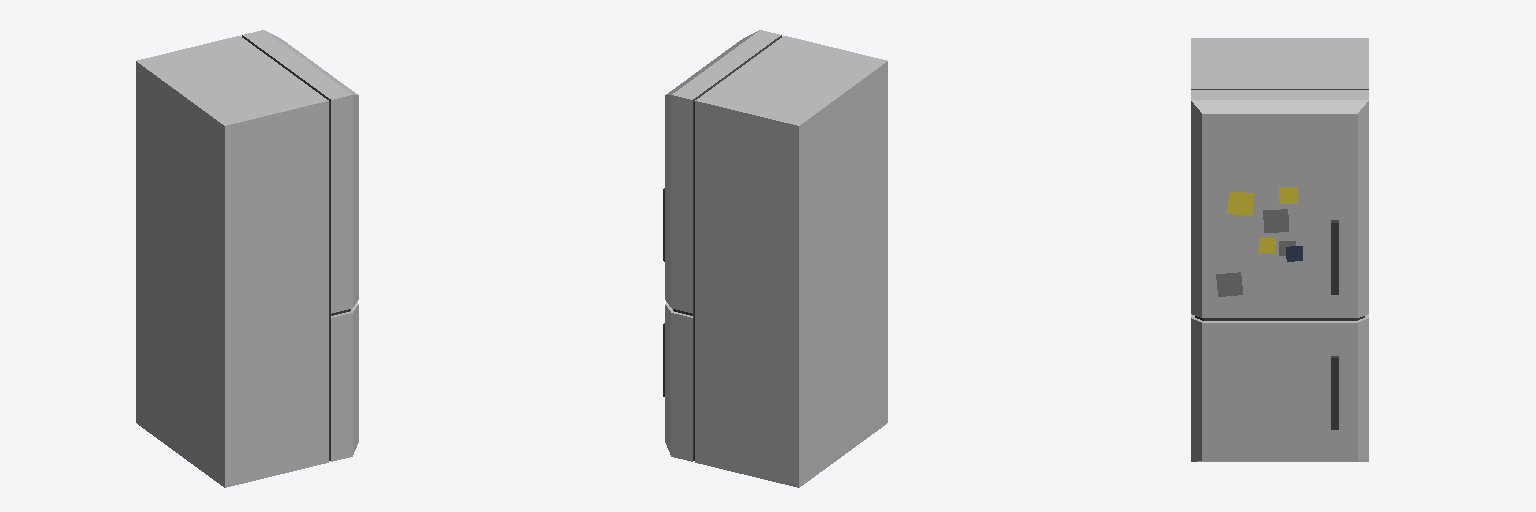
File: fridge.obj
3 renders of one model, left to right at view 1: azimuth 30°, elevation 25°; view 2: azimuth 150°, elevation 25°; view 3: azimuth 270°, elevation 25°, orthographic.
Parts seen in each view (by area): view 1: Cube.031; view 2: Cube.031; view 3: Cube.031.
Boxes of the visible parts, box(x1,y1,x2,y2) form: Cube.031: box(136, 30, 358, 487); Cube.031: box(663, 30, 887, 487); Cube.031: box(1191, 38, 1368, 461).
Bounding box in the file's own units: 4.05 × 9.25 × 4.13.